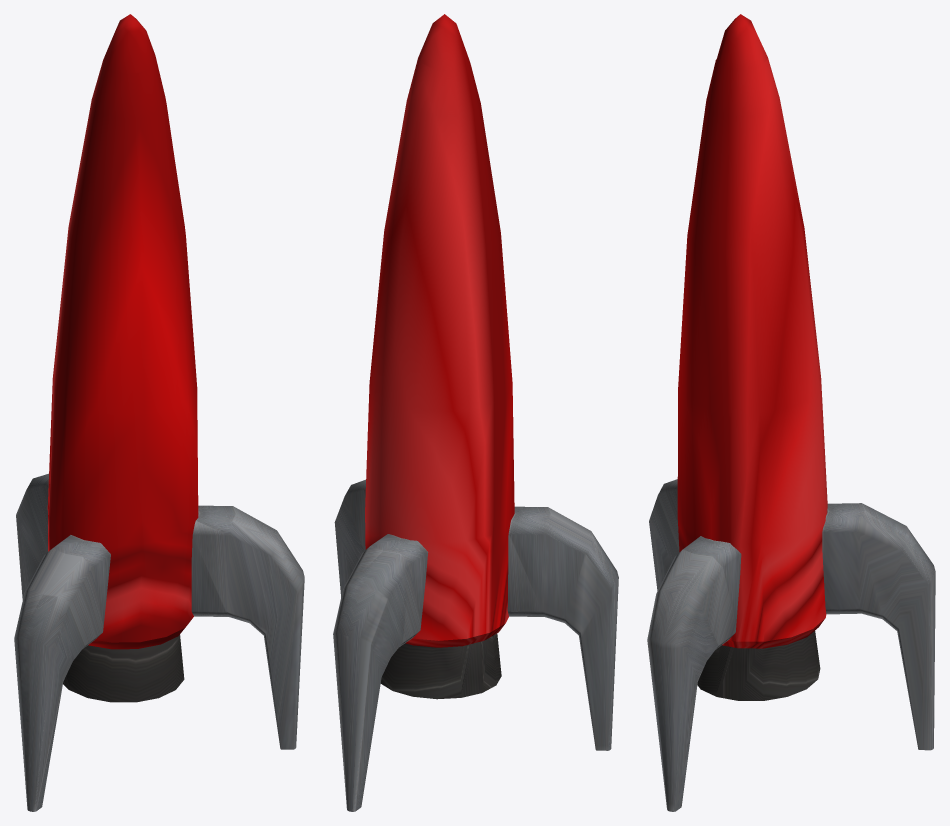
Rendered from Colony_Rocket_Art.fbx.
The picture shows the model from 3 angles, left to right: view 1: azimuth 30°, elevation 25°; view 2: azimuth 150°, elevation 25°; view 3: azimuth 270°, elevation 25°; orthographic projection.
Visible parts, largest first — view 1: Colony_Rocket_Art; view 2: Colony_Rocket_Art; view 3: Colony_Rocket_Art.
Boxes of the visible parts, x1=… form: Colony_Rocket_Art: x1=14, y1=14, x2=304, y2=811; Colony_Rocket_Art: x1=333, y1=14, x2=618, y2=811; Colony_Rocket_Art: x1=647, y1=14, x2=935, y2=811.
Bounding box in the file's own units: 205 × 513 × 183.
